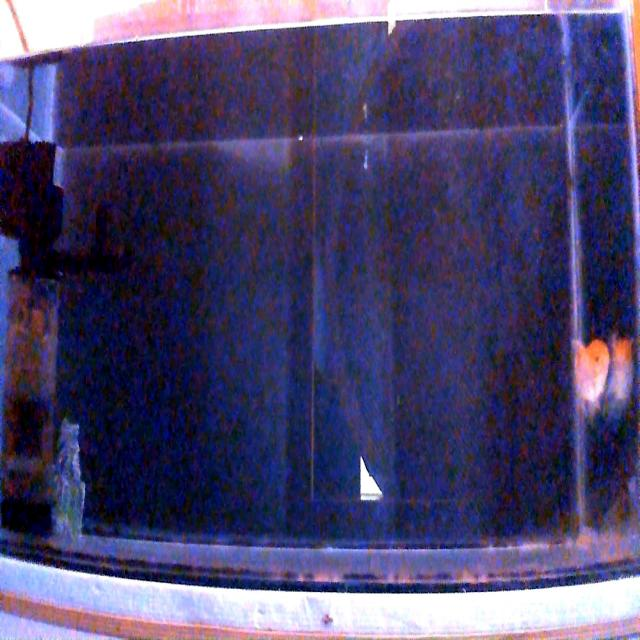fish: (572, 337, 611, 408), (614, 332, 634, 410)
